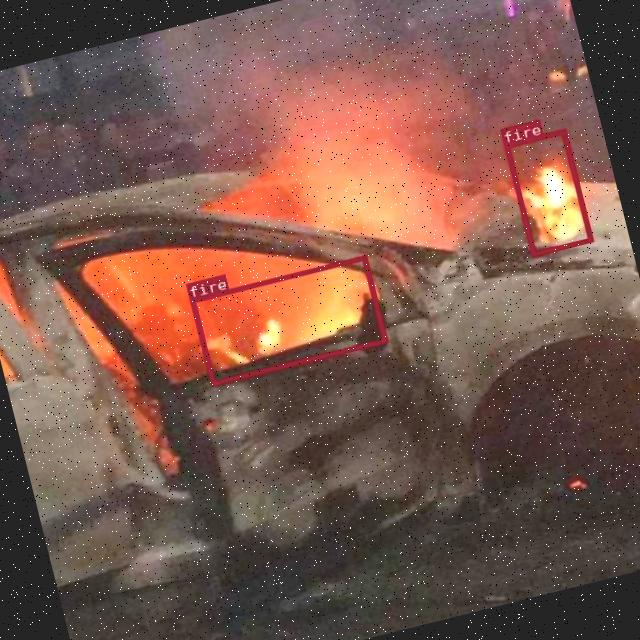fire: (188, 254, 386, 385), (502, 128, 592, 255)
